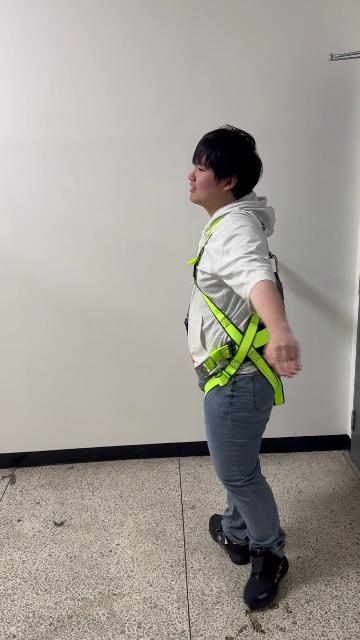helmet_not_worn: (188, 127, 263, 206)
shoe_worn: (243, 547, 288, 609), (209, 514, 250, 566)
vest_worn: (185, 218, 287, 398)
